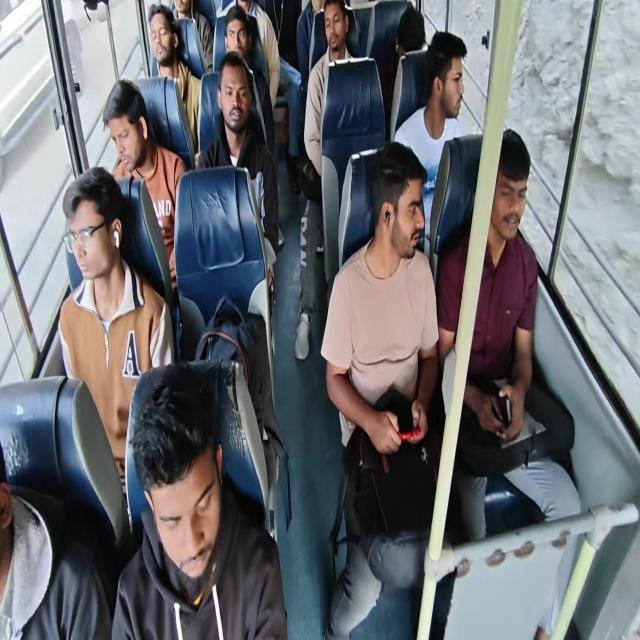person: (54, 1, 582, 637), (436, 127, 581, 638), (320, 140, 455, 638), (110, 360, 288, 639), (58, 166, 175, 515), (294, 0, 367, 360), (0, 443, 112, 638), (196, 50, 279, 287), (102, 79, 188, 292), (393, 30, 468, 251), (147, 3, 201, 153), (223, 5, 275, 155), (384, 5, 428, 141), (296, 1, 328, 175), (235, 0, 281, 109), (173, 0, 213, 74), (296, 0, 328, 88), (395, 5, 427, 57)
